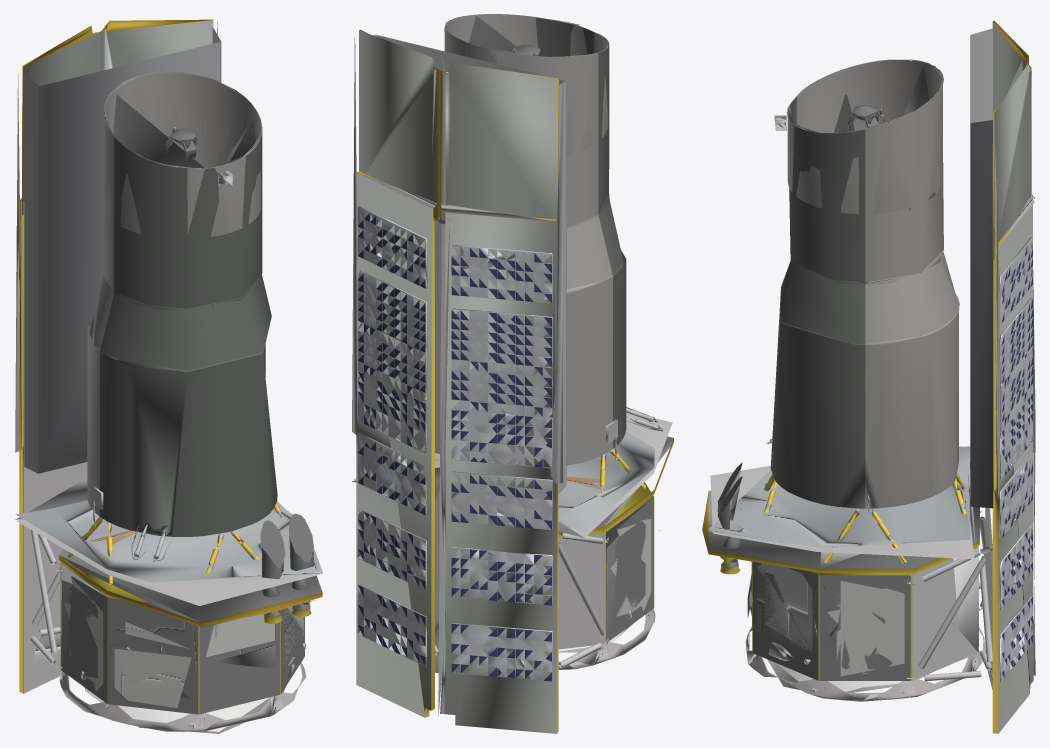
File: spitzer.glb
3 views of the same model, side by side, from view 1: azimuth 30°, elevation 25°; view 2: azimuth 150°, elevation 25°; view 3: azimuth 270°, elevation 25° (orthographic). The views are drawn at different scales.
Visible parts, largest first — view 1: Fake; view 2: Fake; view 3: Fake.
Boxes of the visible parts, x1,y1,x2,y2 form: Fake: (15, 19, 322, 733); Fake: (352, 14, 673, 733); Fake: (702, 20, 1035, 733).
Bounding box in the file's own units: 1.61 × 4.35 × 2.1.
1 material, 1 textured.
